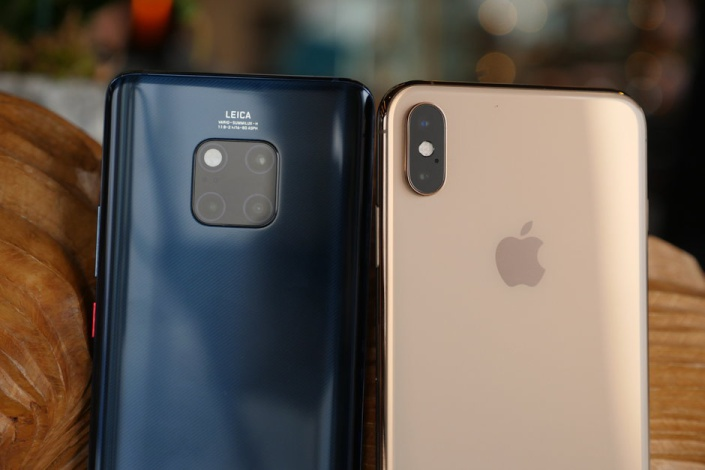apple: (482, 208, 563, 308)
